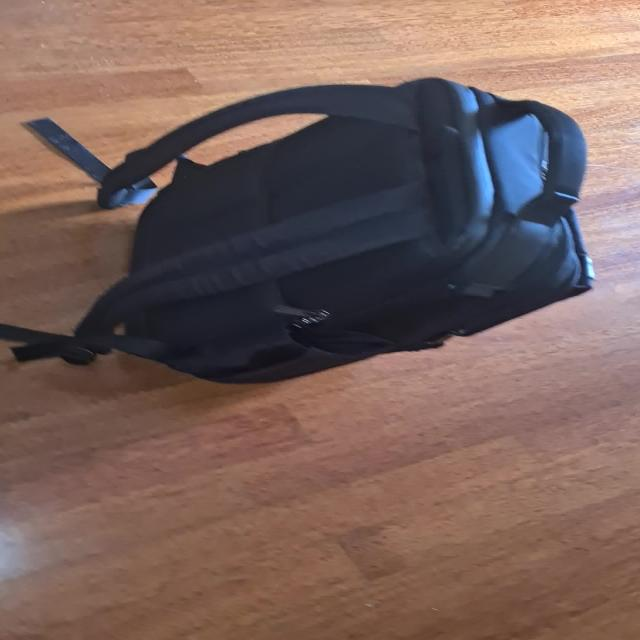backpack: (61, 64, 614, 388)
